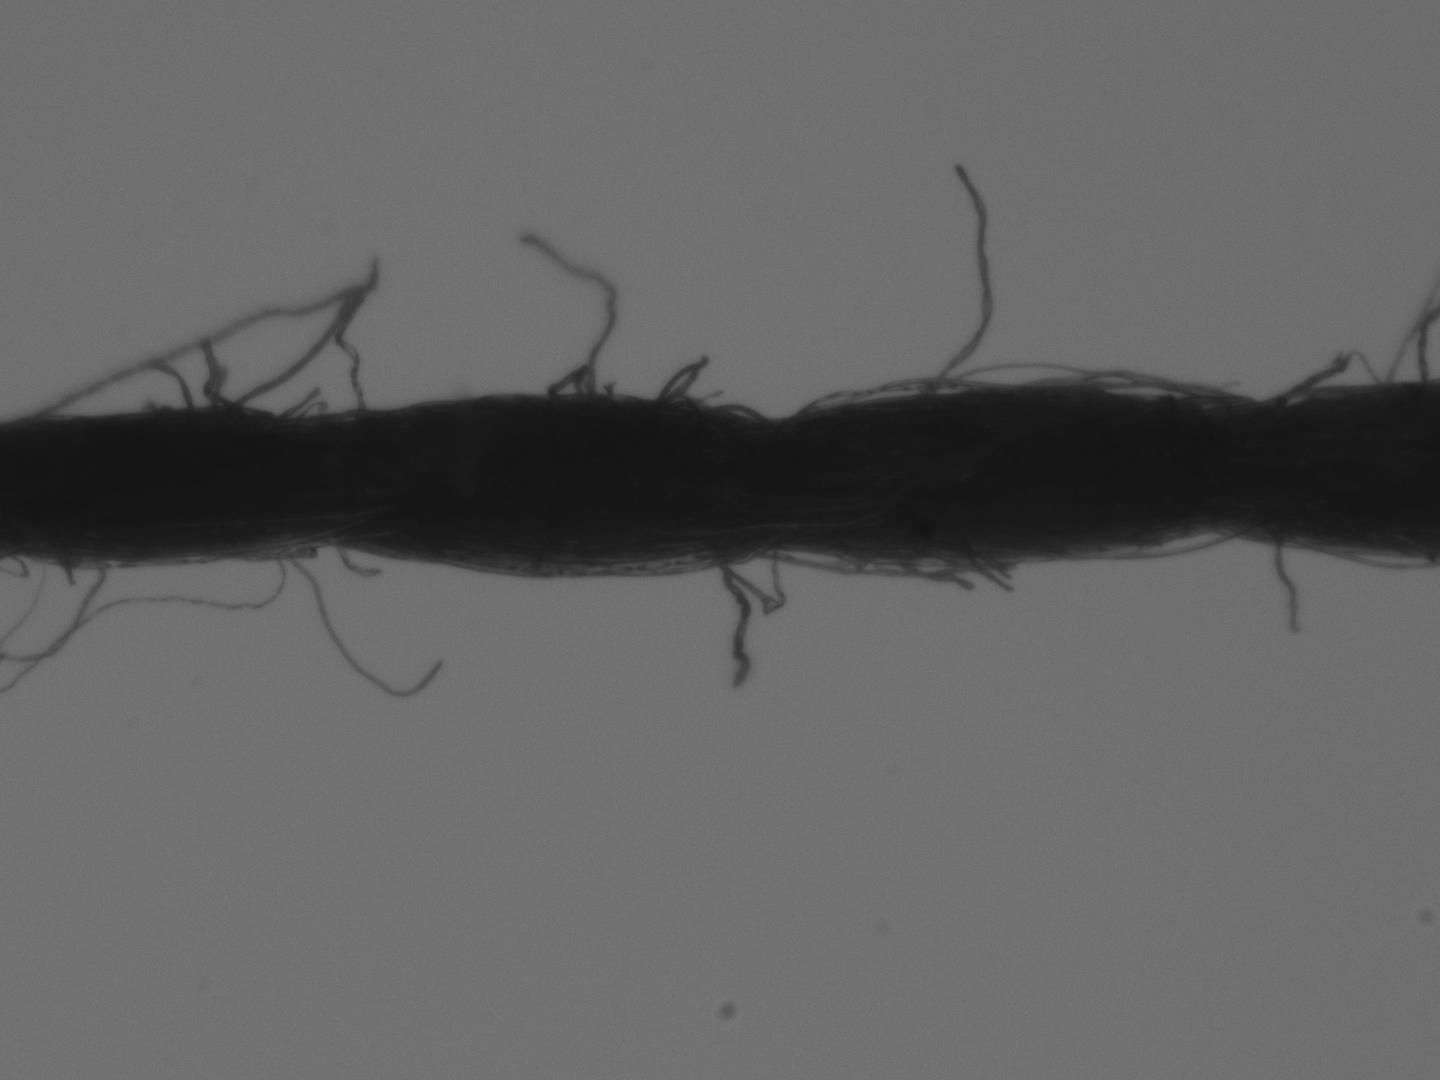loop_fiber: (1002, 360, 1260, 417), (703, 522, 790, 622), (1079, 531, 1251, 562), (647, 349, 713, 417), (691, 394, 774, 441), (535, 357, 602, 408), (892, 554, 1002, 584), (288, 396, 328, 423)
protruding_fiber: (916, 147, 994, 399), (1270, 535, 1313, 632)
